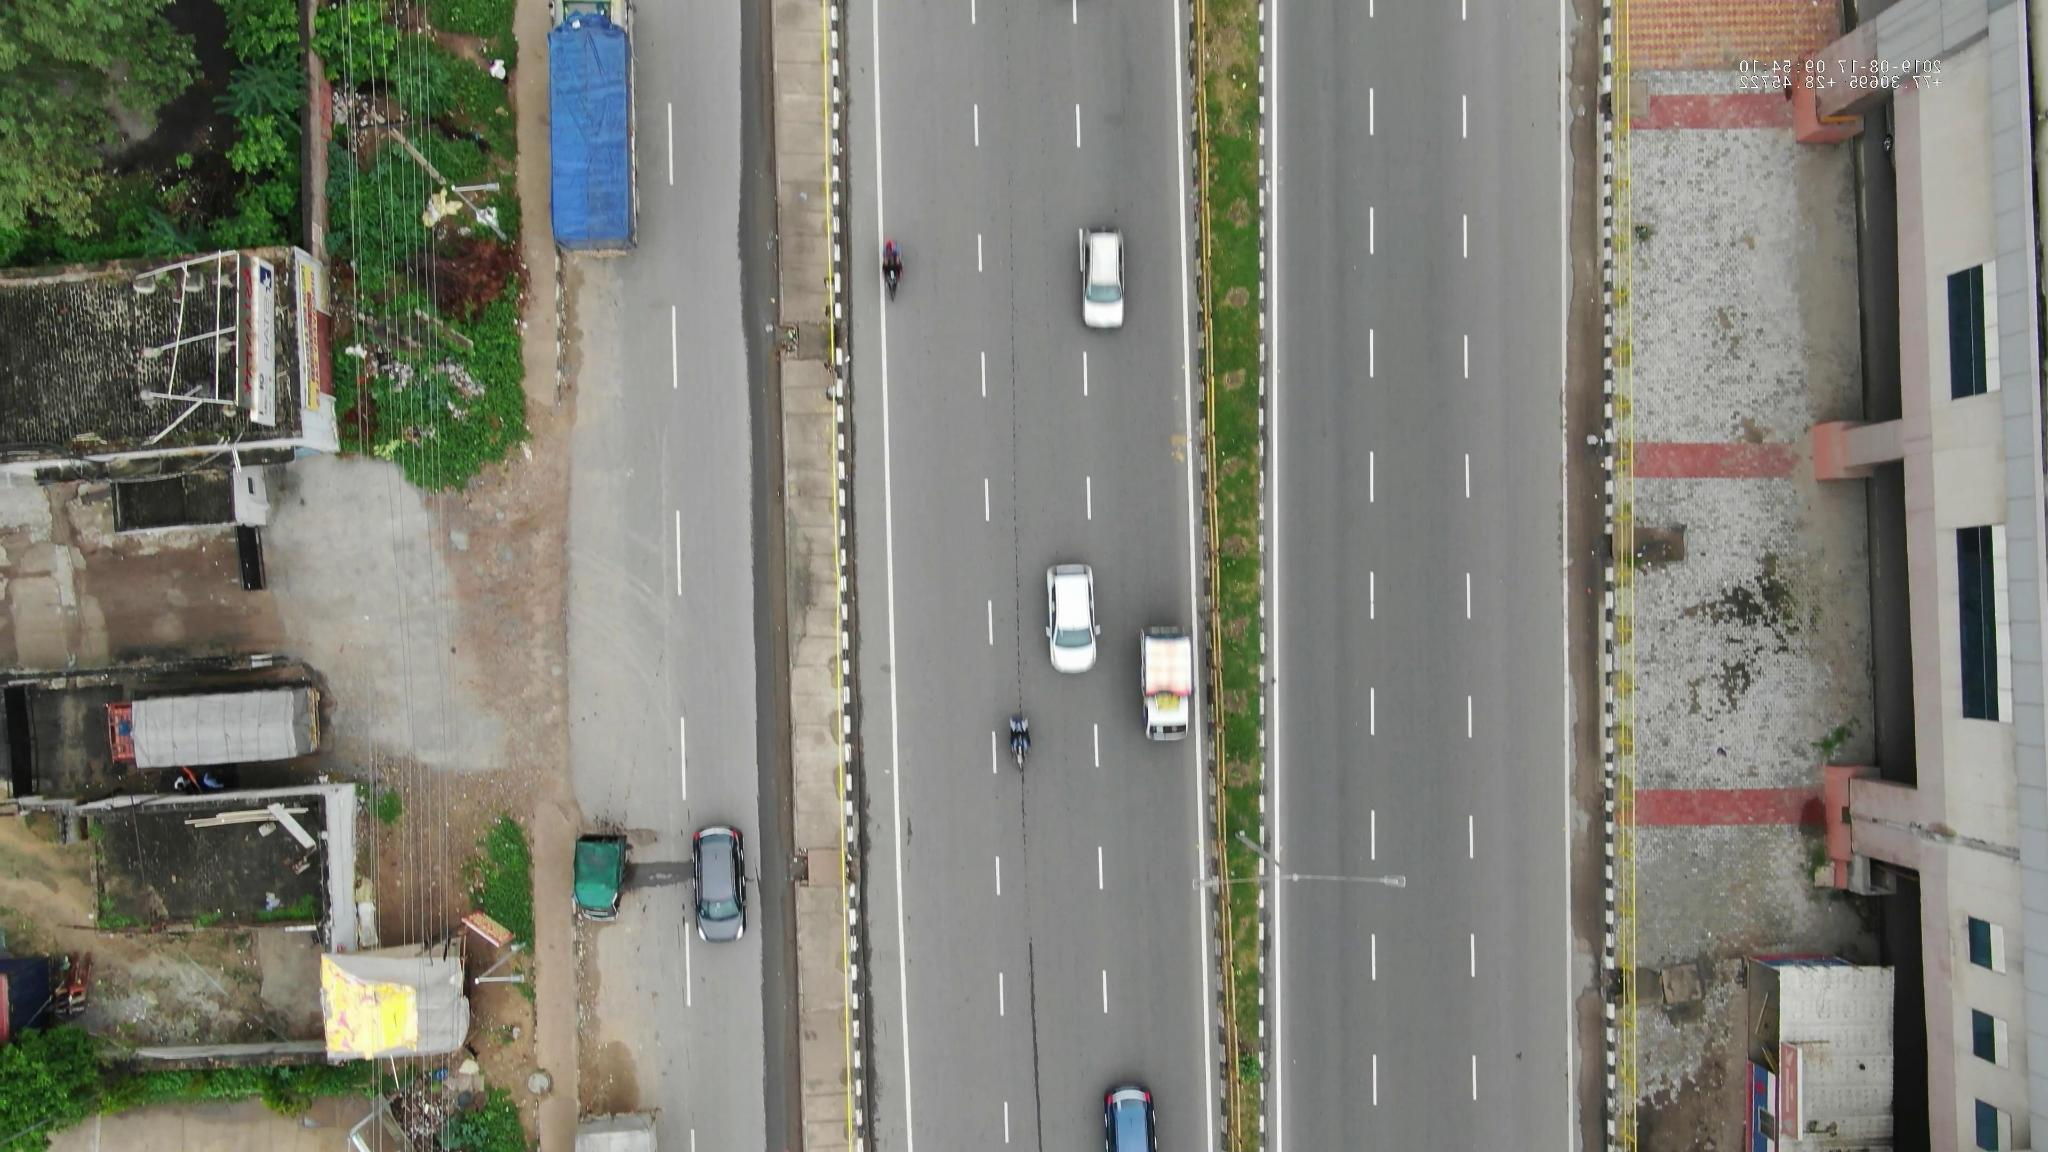Muddy_road: (1560, 353, 1613, 584), (1566, 143, 1611, 342)
